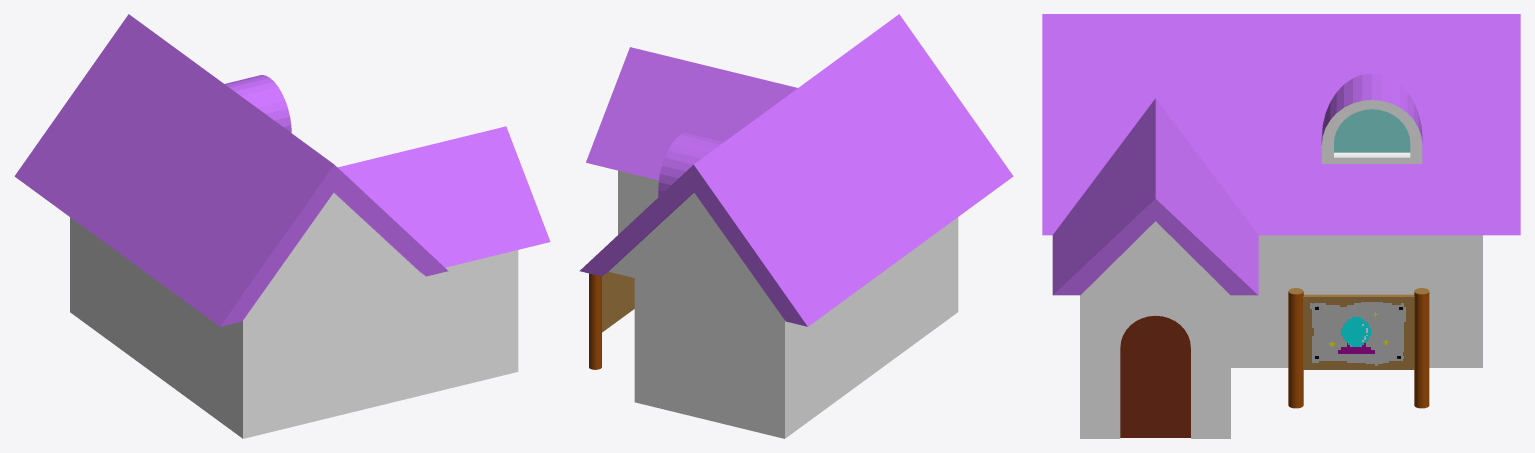
File: MagicShop.fbx
The picture shows the model from 3 angles, left to right: view 1: azimuth 30°, elevation 25°; view 2: azimuth 150°, elevation 25°; view 3: azimuth 270°, elevation 25°; orthographic projection. The views are drawn at different scales.
Visible parts, largest first — view 1: MagicShop; view 2: MagicShop; view 3: MagicShop.
Boxes of the visible parts, box(x1,y1,x2,y2) form: MagicShop: box(14, 14, 550, 438); MagicShop: box(579, 14, 1013, 438); MagicShop: box(1042, 14, 1520, 438).
Size of the model in its own units: 179 by 137 by 190.
Materials: 5 (1 with a texture image).
